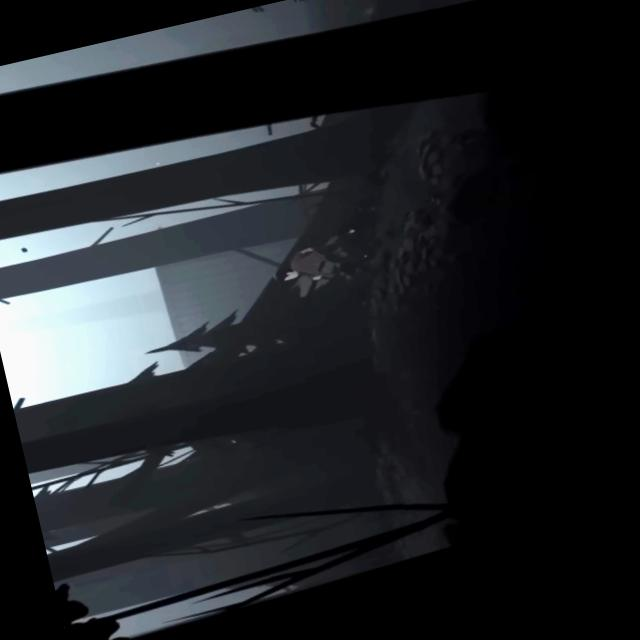boy: (264, 222, 376, 288)
